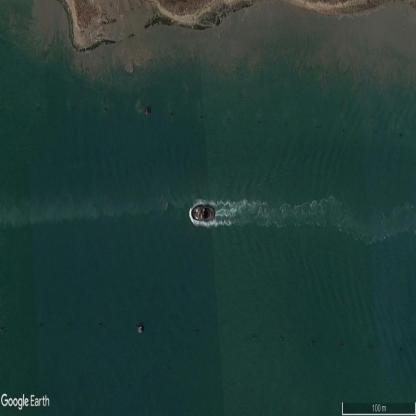ship: (191, 206, 215, 222)
